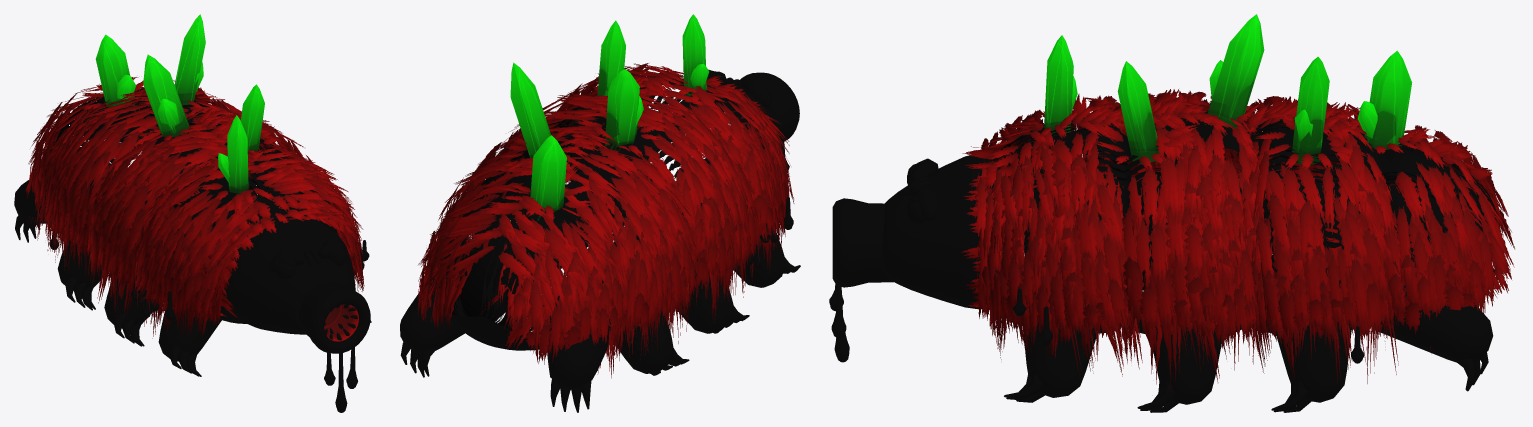
Rendered from tardigrade.glb.
3 views of the same model, side by side, from view 1: azimuth 30°, elevation 25°; view 2: azimuth 150°, elevation 25°; view 3: azimuth 270°, elevation 25° (orthographic). The views are drawn at different scales.
Parts seen in each view (by area): view 1: Tardigrade_LOD0; view 2: Tardigrade_LOD0; view 3: Tardigrade_LOD0.
Boxes of the visible parts, x1,y1,x2,y2 form: Tardigrade_LOD0: (14, 14, 371, 412); Tardigrade_LOD0: (400, 14, 800, 412); Tardigrade_LOD0: (829, 14, 1514, 412).
Size of what is drawn, in the model's own units: 3.41 by 3.81 by 7.1.
Materials: 2 (2 with a texture image).
